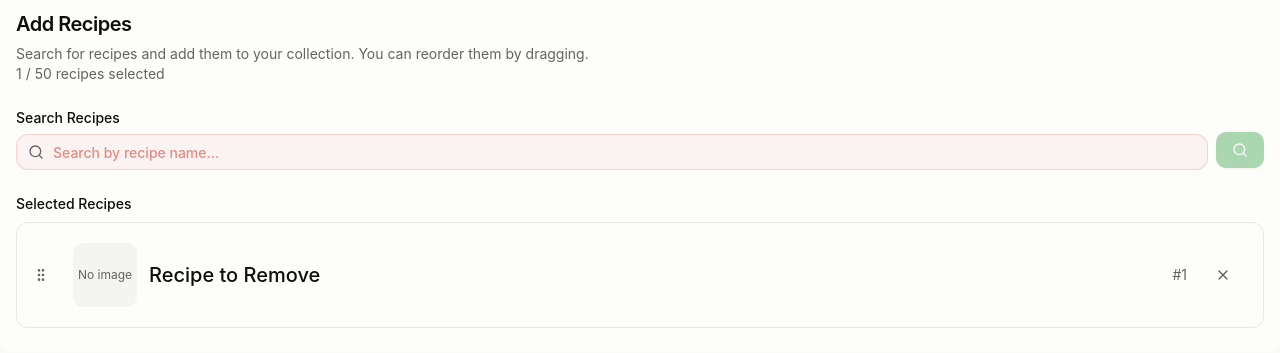
Test: RecipePickerSection › Removing Recipes › should remove a recipe when clicking remove button
expect the heading "Recipe to Remove" is shown: met, box [149,263,320,287]
Click the button named "Remove Recipe to Remove from collection" at (1223, 275), box [1207,259,1239,291]
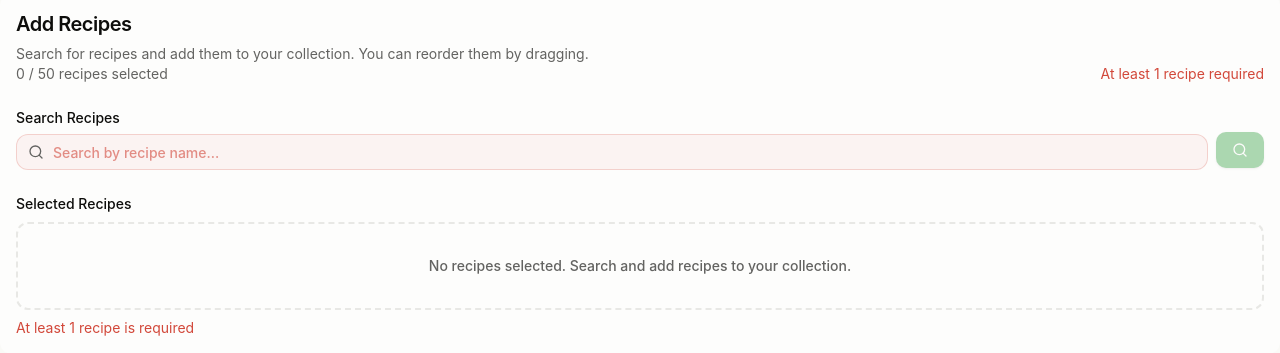
expect the heading "Recipe to Remove" is gone: met
